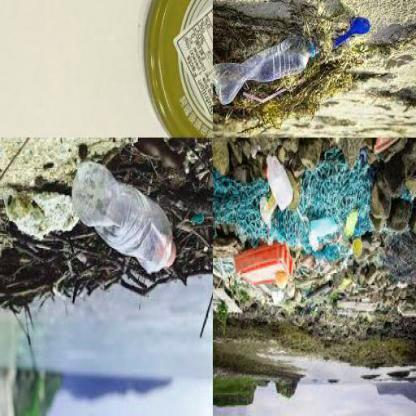Plastic: (68, 160, 177, 278), (214, 33, 316, 106), (231, 244, 292, 293), (263, 151, 293, 209)
